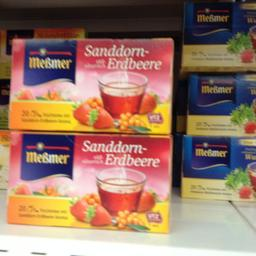tea: (6, 128, 172, 232), (6, 36, 172, 134), (178, 134, 255, 202), (180, 1, 254, 66), (183, 73, 255, 134)
